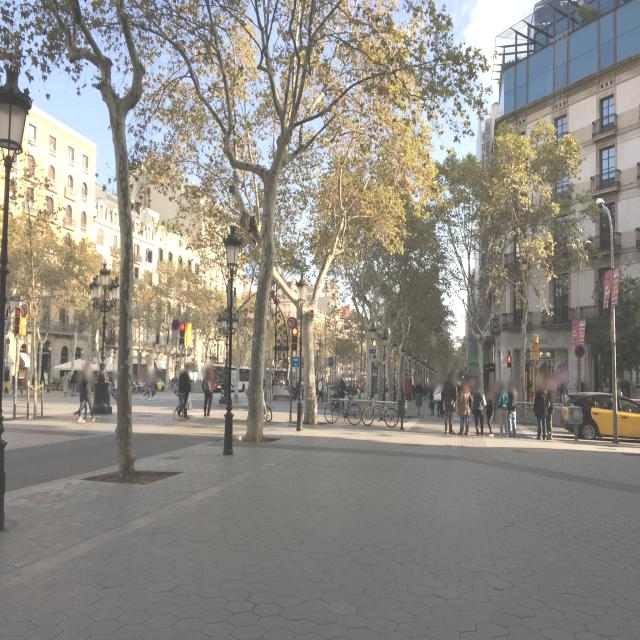bike: (324, 388, 362, 426), (362, 396, 399, 429)
car: (561, 391, 640, 444)
